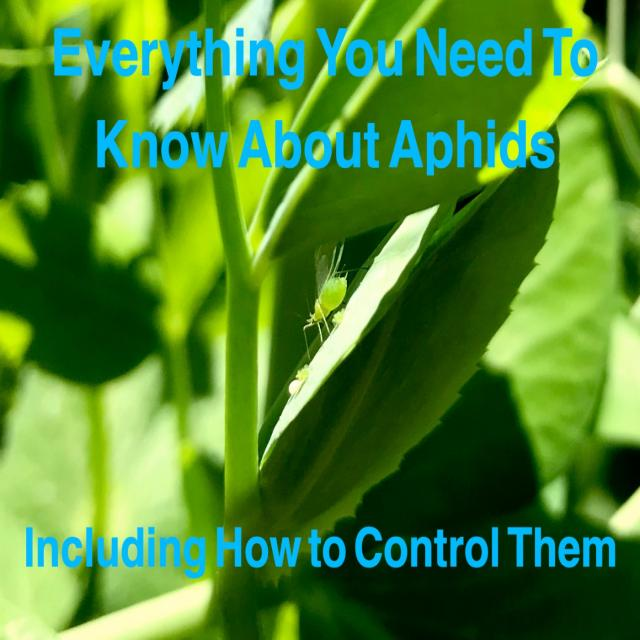Aphid-Grown-: (286, 250, 358, 355)
